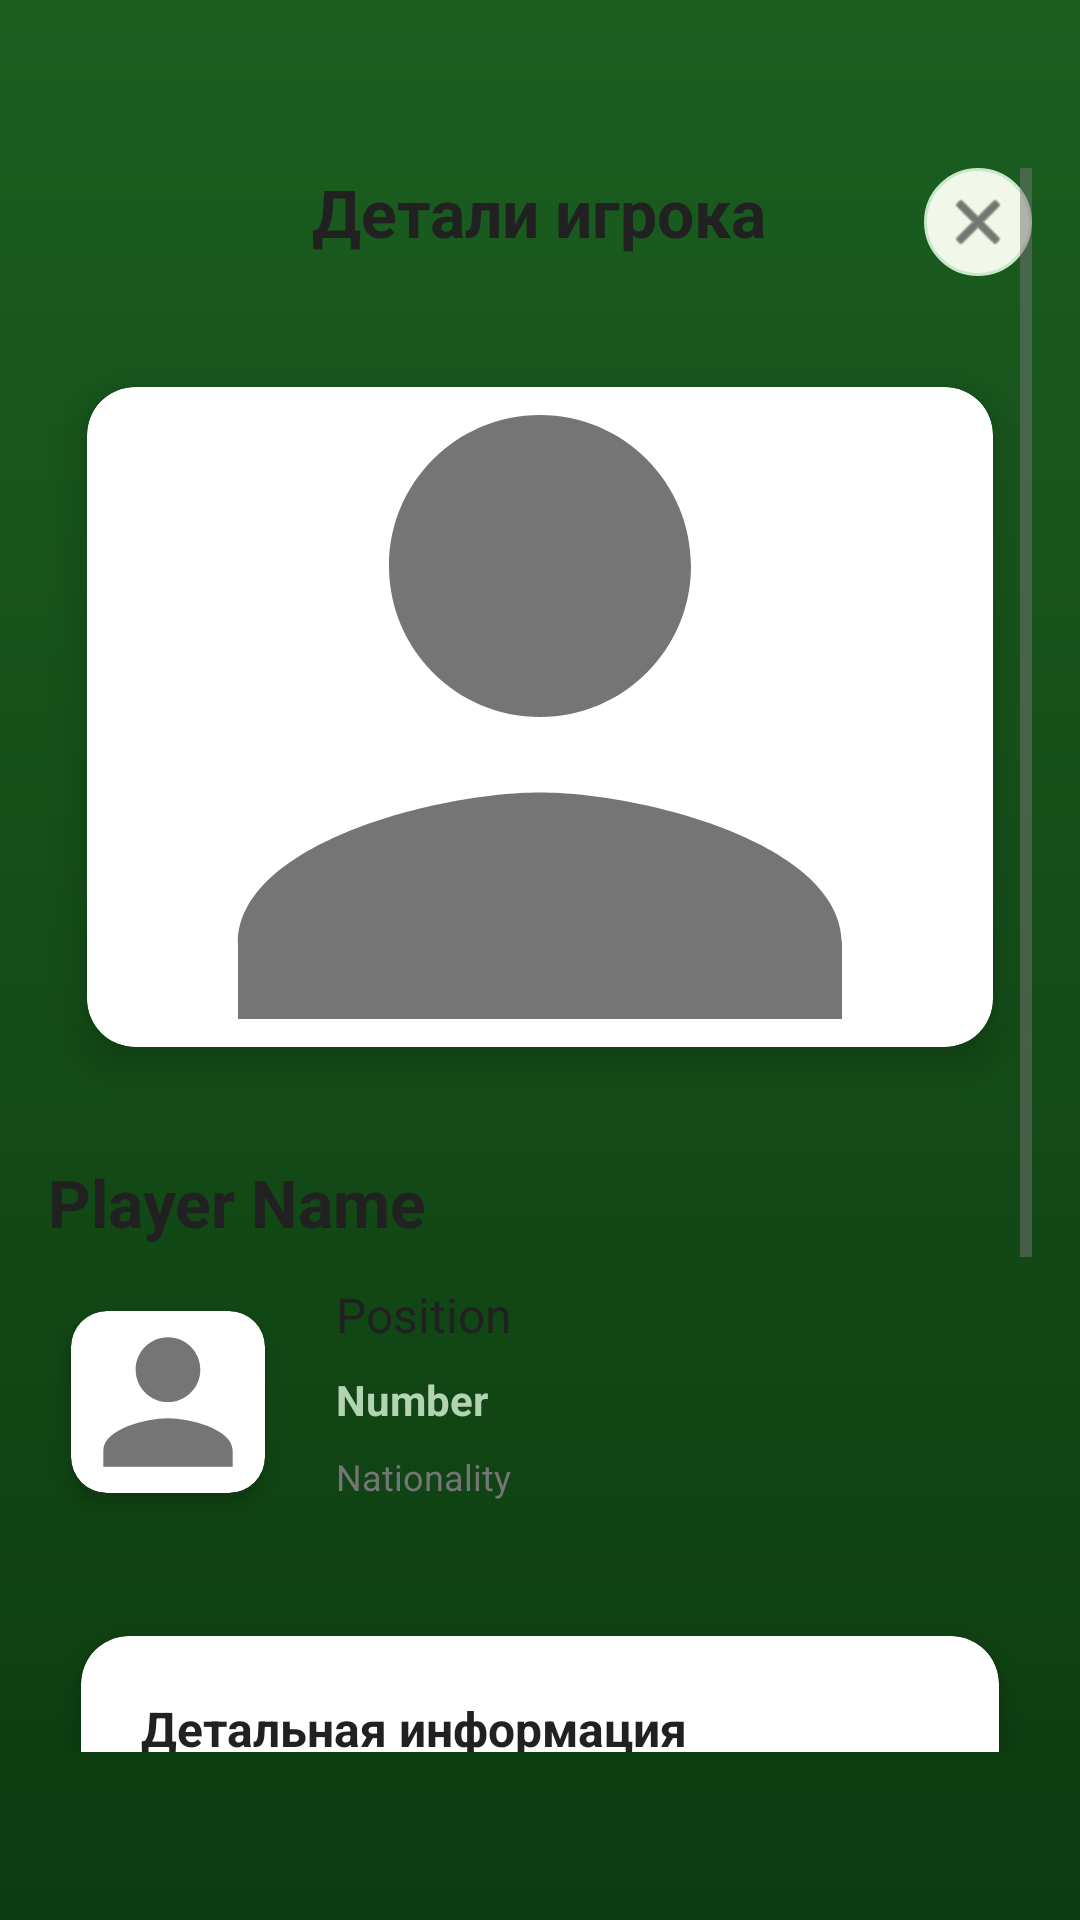

Icons on this 1080 x 1920 Android screen, each with its box as (x1, y1, x2, y2):
Player thumbnail: (71, 1311, 265, 1493)
Закрыть: (924, 168, 1032, 276)
